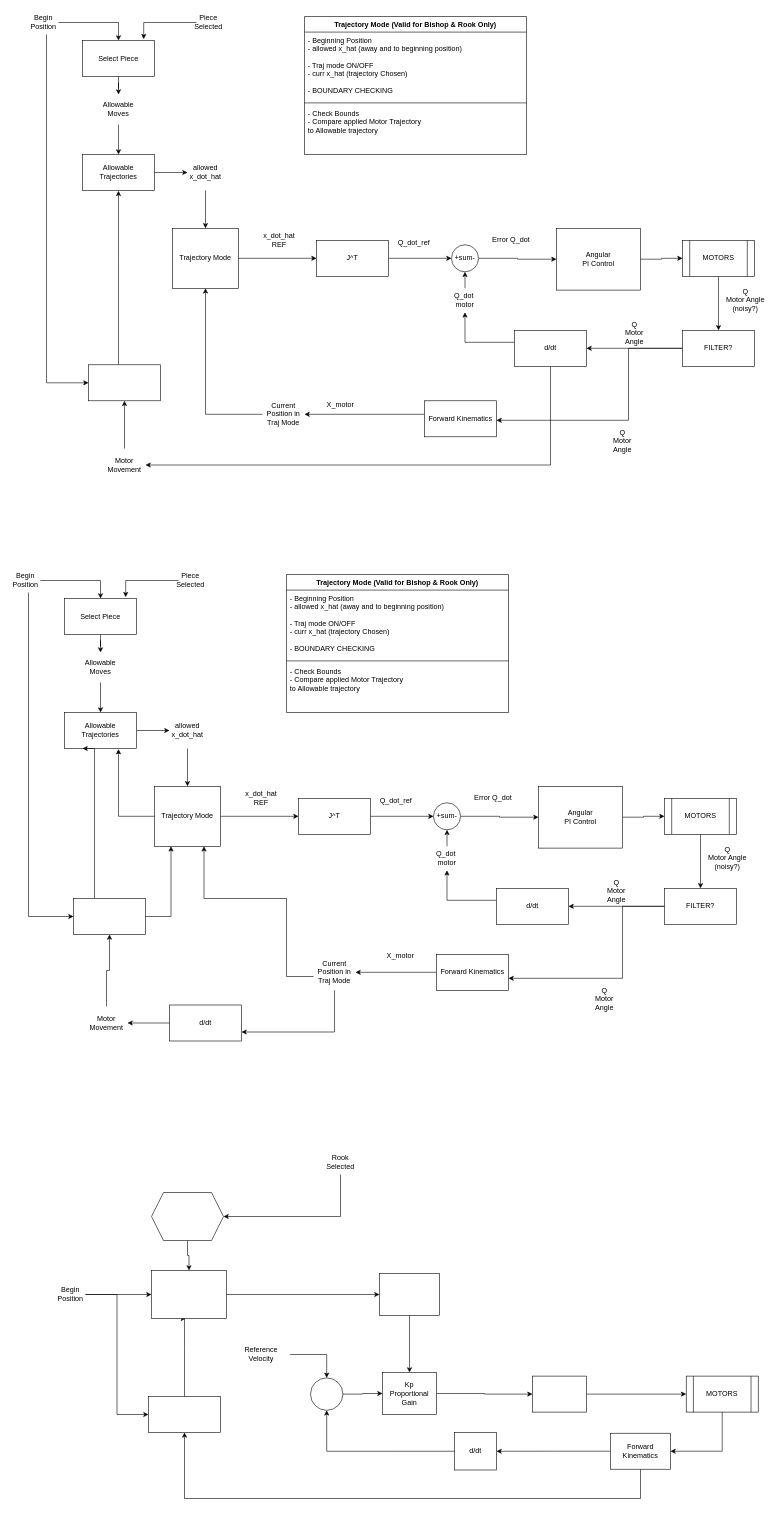
Some shapes in this 776 by 1514 pixel diagram are drawn without their labels. The shapes that lost their labels are listed below. From the top down, each one's centre as x and y in pixels, then its label:
point (124, 382): Trajectory Chosen
point (109, 916): Applied on Motor
point (187, 1216): Rook Behaviour
point (188, 1294): Compare Axis Distance
point (409, 1294): Set Proportional Gains
point (326, 1393): + Sum -
point (559, 1394): J T
point (184, 1414): Compare Initial Position
